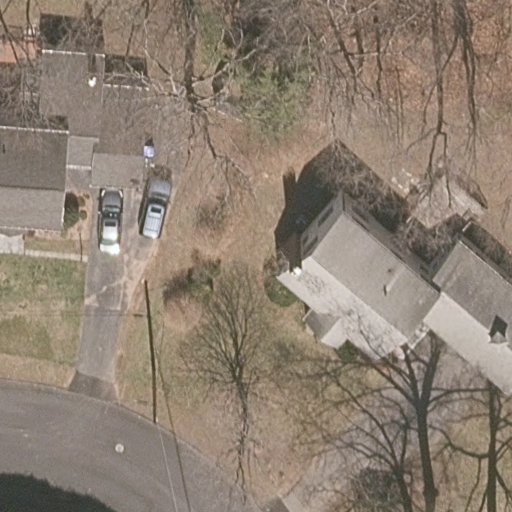DT: (148, 382, 160, 425)
